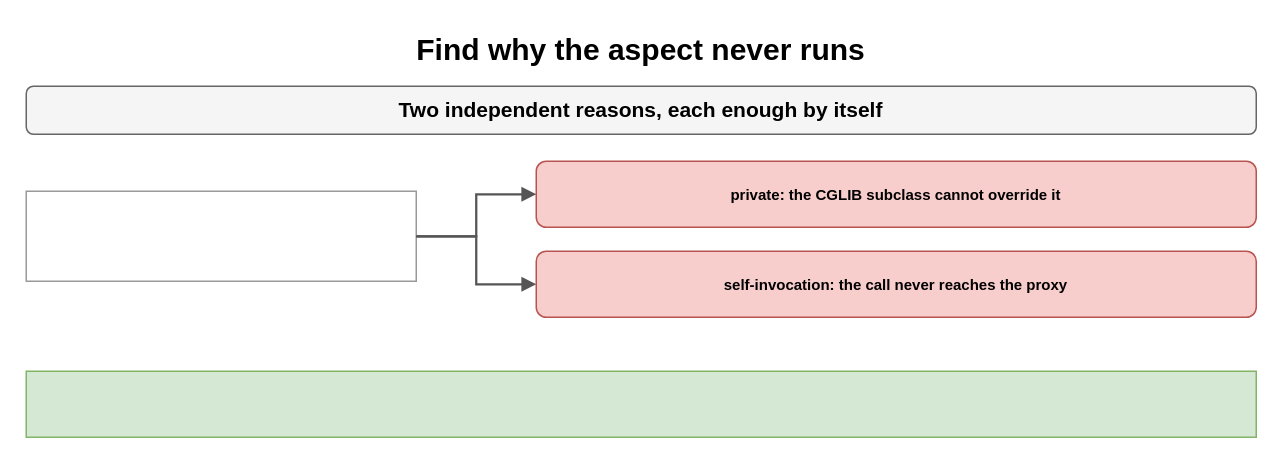
Some shapes in this 1283 by 464 pixel diagram are drawn without their labels. The centre of each missing label's shape, as x and y in pixels:
fix: a non-private method on a separate bean, called through that bean: pixel 640 403
report() → build() @LogTime private: pixel 220 235
